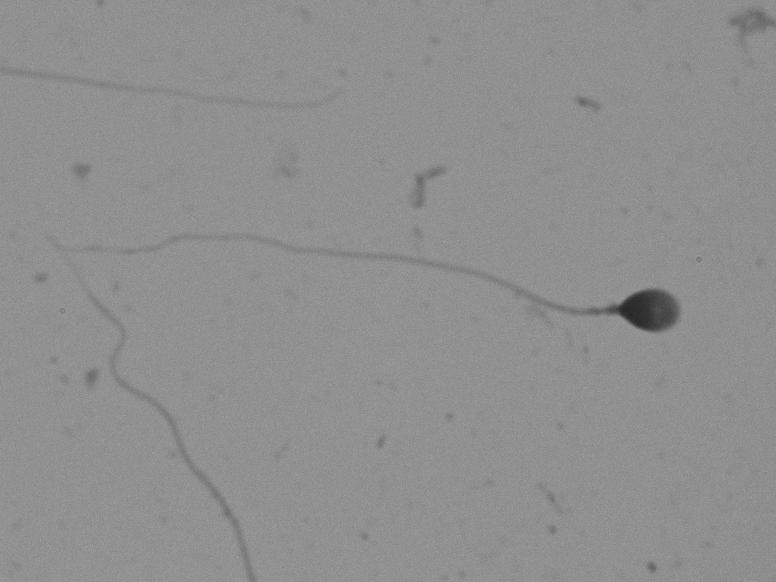Normal: (104, 177, 704, 416)
